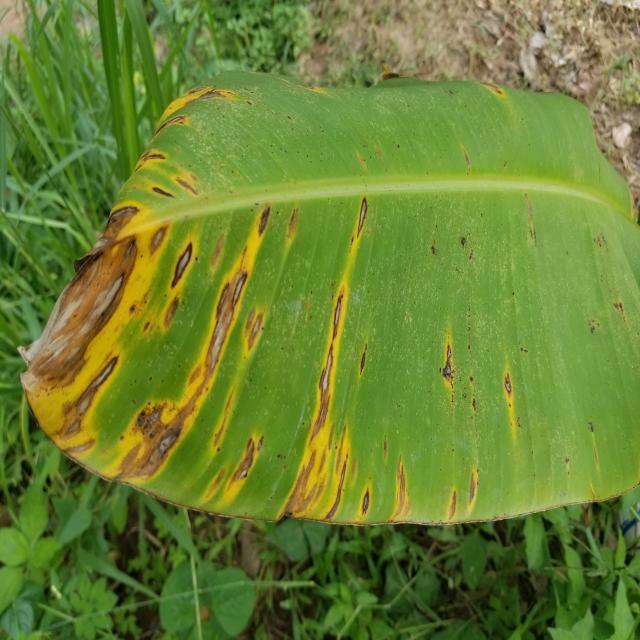Early_rust: (14, 49, 520, 544)
